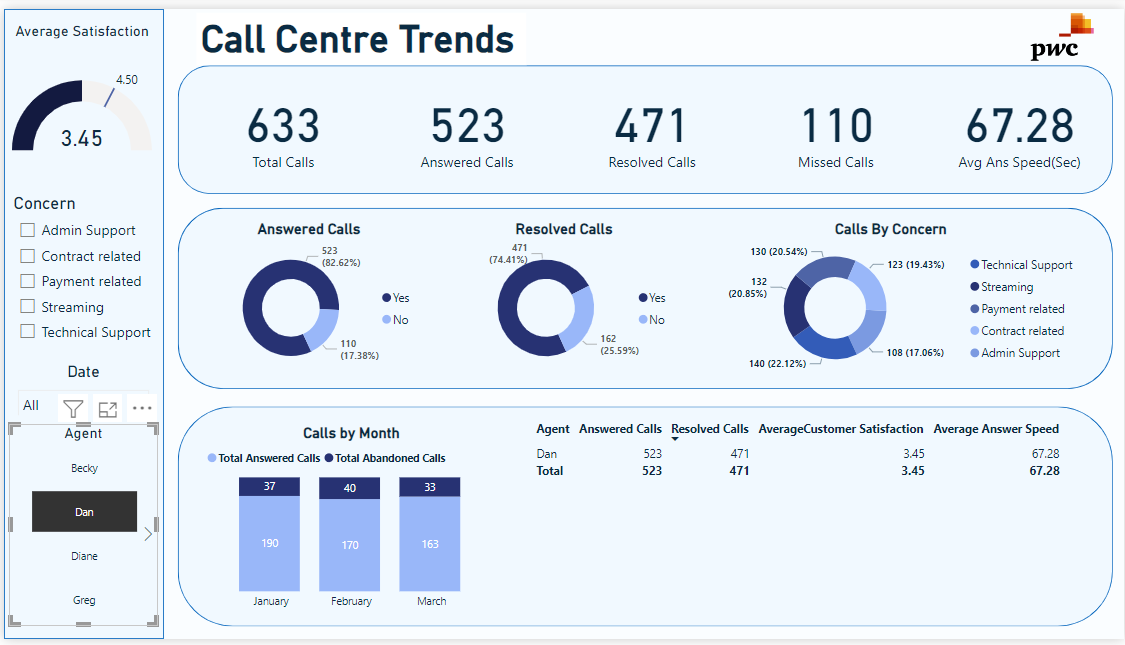

What the dashboard file says about the page in this screenshot:
{"tool":"powerbi","page":{"name":"Call Center Trend Analysis","canvas":[1280,720],"ordinal":1},"visuals":[{"type":"shape","box":[198.6,454.3,1068.6,251.4],"z":0},{"type":"shape","box":[198.6,64.3,1068.6,147.1],"z":1000},{"type":"shape","box":[198.6,227.1,1068.6,207.1],"z":2000},{"type":"shape","box":[0,0,182.9,720],"z":3000},{"type":"textbox","box":[220,4.3,377.1,60],"z":4000},{"type":"image","box":[1161.4,0,95.7,64.3],"z":5000},{"type":"gauge","title":"Average Satisfaction","fields":{"Y":["KPI.Overall Customer Satisfaction"],"TargetValue":["KPI.Target Value"]},"box":[4.3,14.3,170,184.3],"z":6000},{"type":"card","fields":{"Values":["KPI.Total Calls"]},"box":[241.4,75.7,155.7,121.4],"z":7000},{"type":"card","fields":{"Values":["KPI.Total Answered Calls"]},"box":[451.8,75.7,155.7,121.4],"z":8000},{"type":"card","fields":{"Values":["KPI.Total Resolved Calls"]},"box":[662.1,75.7,155.7,121.4],"z":9000},{"type":"card","fields":{"Values":["KPI.Total Abandoned Calls"]},"box":[872.5,75.7,155.7,121.4],"z":10000},{"type":"card","fields":{"Values":["KPI.Average Answer Speed"]},"box":[1082.9,75.7,155.7,121.4],"z":11000},{"type":"tableEx","fields":{"Values":["Call-Center-Dataset.Agent","KPI.Total Answered Calls","KPI.Total Resolved Calls","KPI.Overall Customer Satisfaction","KPI.Average Answer Speed"]},"box":[597.1,464.3,638.6,231.4],"z":12000},{"type":"donutChart","title":"Answered Calls","fields":{"Y":["KPI.Total Answered Calls","KPI.Total Abandoned Calls"]},"box":[220,241.4,257.1,181.4],"z":13000},{"type":"donutChart","title":"Resolved Calls","fields":{"Y":["KPI.Total Resolved Calls","KPI.Total Unresolved Calls"]},"box":[510,241.4,260,181.4],"z":14000},{"type":"hundredPercentStackedColumnChart","title":"Calls by Month","fields":{"Y":["KPI.Total Answered Calls","KPI.Total Abandoned Calls"],"Category":["Call-Center-Dataset.Date.Variation.Date Hierarchy.Month"]},"box":[227.1,474.3,340,221.4],"z":15000},{"type":"donutChart","title":"Calls By Concern","fields":{"Y":["KPI.Total Calls"],"Category":["Call-Center-Dataset.Topic"]},"box":[791.4,241.4,444.3,181.4],"z":16000},{"type":"slicer","title":"Concern","fields":{"Values":["Call-Center-Dataset.Topic"]},"box":[5.7,211.4,170,182.9],"z":17000},{"type":"slicer","title":"Date","fields":{"Values":["Call-Center-Dataset.Date.Variation.Date Hierarchy.Month","Call-Center-Dataset.Date.Variation.Date Hierarchy.Day"]},"box":[5.7,404.3,170,60],"z":18000},{"type":"slicer","title":"Agent","fields":{"Values":["Call-Center-Dataset.Agent"]},"box":[5.7,474.3,170,231.4],"z":19000}]}

Visuals, with their boxes in screenshot pixels (x1, y1, x2, y2), scaled from the page's 1280x720 canvas onto the 1125x645 screenshot:
shape: (left=175, top=407, right=1114, bottom=632)
shape: (left=175, top=58, right=1114, bottom=189)
shape: (left=175, top=203, right=1114, bottom=389)
shape: (left=0, top=0, right=161, bottom=644)
textbox: (left=193, top=4, right=525, bottom=58)
image: (left=1021, top=0, right=1105, bottom=58)
"Average Satisfaction" gauge: (left=4, top=13, right=153, bottom=178)
card - KPI.Total Calls: (left=212, top=68, right=349, bottom=177)
card - KPI.Total Answered Calls: (left=397, top=68, right=534, bottom=177)
card - KPI.Total Resolved Calls: (left=582, top=68, right=719, bottom=177)
card - KPI.Total Abandoned Calls: (left=767, top=68, right=904, bottom=177)
card - KPI.Average Answer Speed: (left=952, top=68, right=1089, bottom=177)
tableEx - Call-Center-Dataset.Agent x KPI.Total Answered Calls: (left=525, top=416, right=1086, bottom=623)
"Answered Calls" donutChart: (left=193, top=216, right=419, bottom=379)
"Resolved Calls" donutChart: (left=448, top=216, right=677, bottom=379)
"Calls by Month" hundredPercentStackedColumnChart: (left=200, top=425, right=498, bottom=623)
"Calls By Concern" donutChart: (left=696, top=216, right=1086, bottom=379)
"Concern" slicer: (left=5, top=189, right=154, bottom=353)
"Date" slicer: (left=5, top=362, right=154, bottom=416)
"Agent" slicer: (left=5, top=425, right=154, bottom=632)
